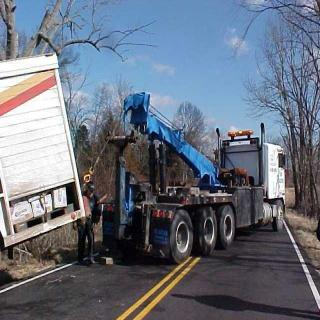Towing_truck: (103, 90, 287, 265)
